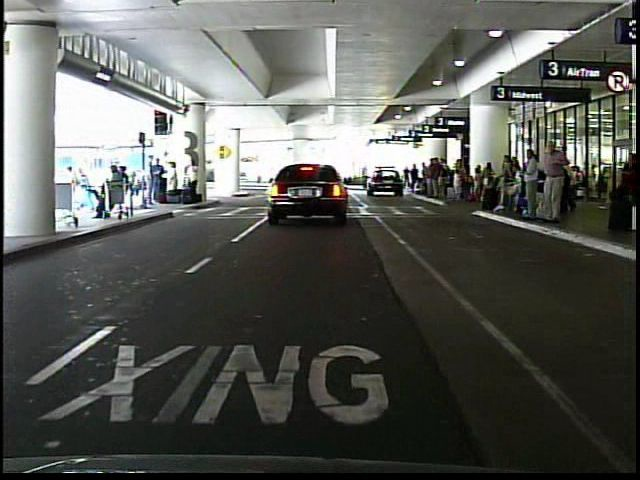person: (536, 135, 573, 230), (607, 151, 638, 230), (520, 146, 539, 222), (68, 162, 93, 219), (151, 157, 166, 205), (168, 160, 183, 203), (184, 157, 198, 202), (403, 165, 413, 192)
